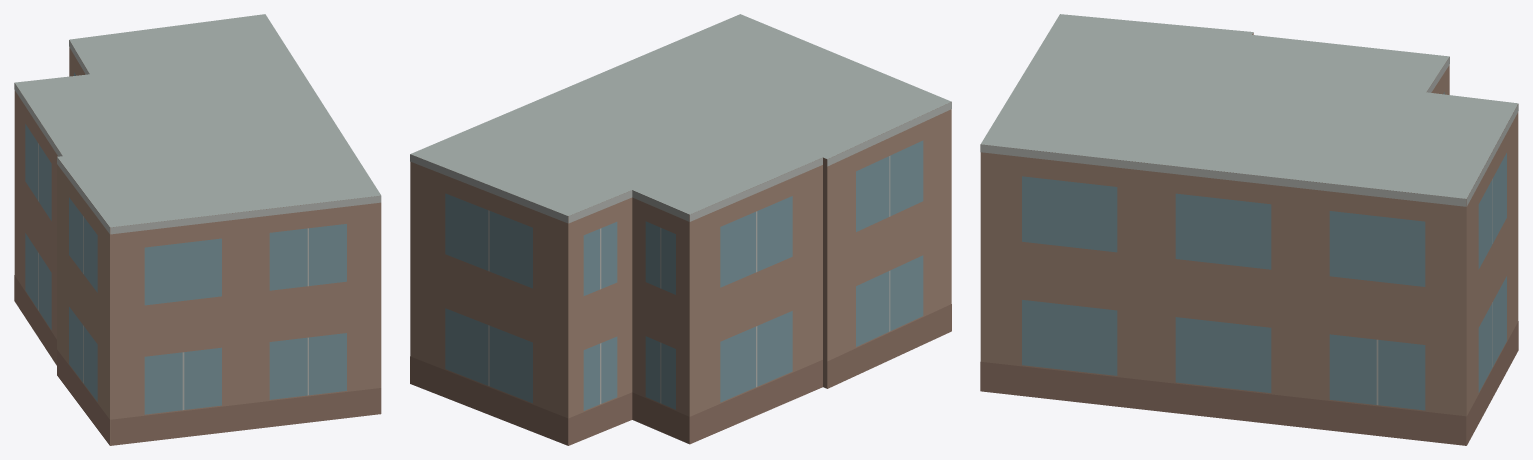
Rendered from survey-upis-32499207.glb.
3 views of the same model, side by side, from view 1: azimuth 30°, elevation 25°; view 2: azimuth 150°, elevation 25°; view 3: azimuth 270°, elevation 25° (orthographic). The views are drawn at different scales.
Parts seen in each view (by area): view 1: survey-upis-32499207.tmp; view 2: survey-upis-32499207.tmp; view 3: survey-upis-32499207.tmp.
Part boxes in pixels (x1,y1,x2,y2): survey-upis-32499207.tmp: (14,14,381,445); survey-upis-32499207.tmp: (410,14,951,445); survey-upis-32499207.tmp: (980,14,1518,445).
Size of the model in its own units: 12.22 by 7.6 by 15.02.
